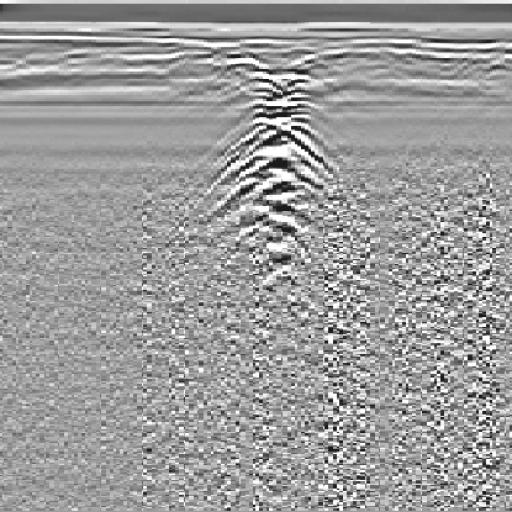metalic: (186, 54, 357, 283)
